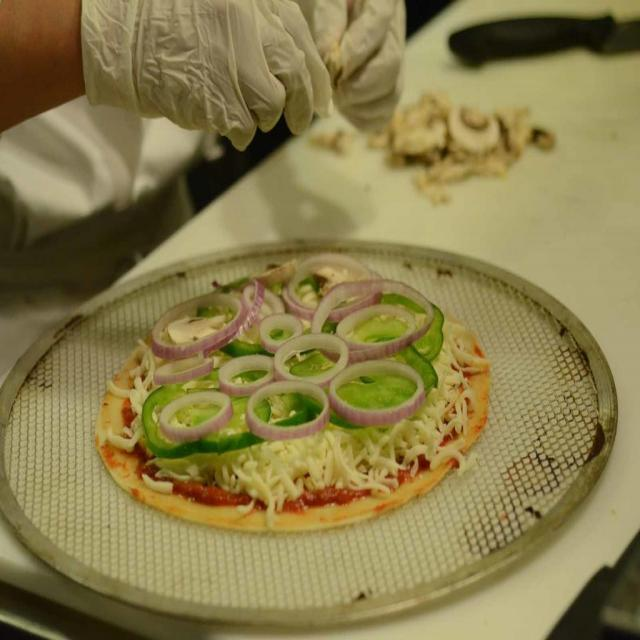Pizza: (82, 244, 498, 524)
